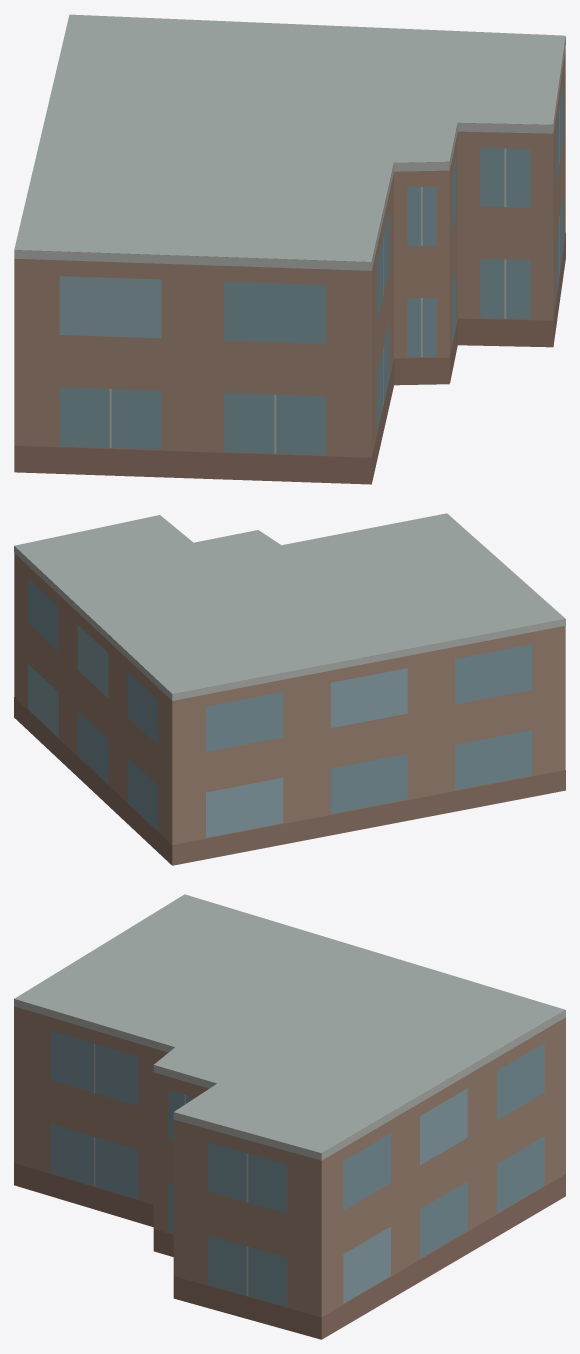
Rendered from survey-upis-32824201.glb.
3 views of the same model, one above another, from view 1: azimuth 30°, elevation 25°; view 2: azimuth 150°, elevation 25°; view 3: azimuth 270°, elevation 25° (orthographic). The views are drawn at different scales.
Parts seen in each view (by area): view 1: survey-upis-32824201.tmp; view 2: survey-upis-32824201.tmp; view 3: survey-upis-32824201.tmp.
Boxes of the visible parts, bbox=[...] form: survey-upis-32824201.tmp: bbox=[14, 14, 565, 484]; survey-upis-32824201.tmp: bbox=[14, 513, 565, 865]; survey-upis-32824201.tmp: bbox=[14, 894, 565, 1339].
Size of the model in its own units: 18.18 by 6.1 by 16.37.
